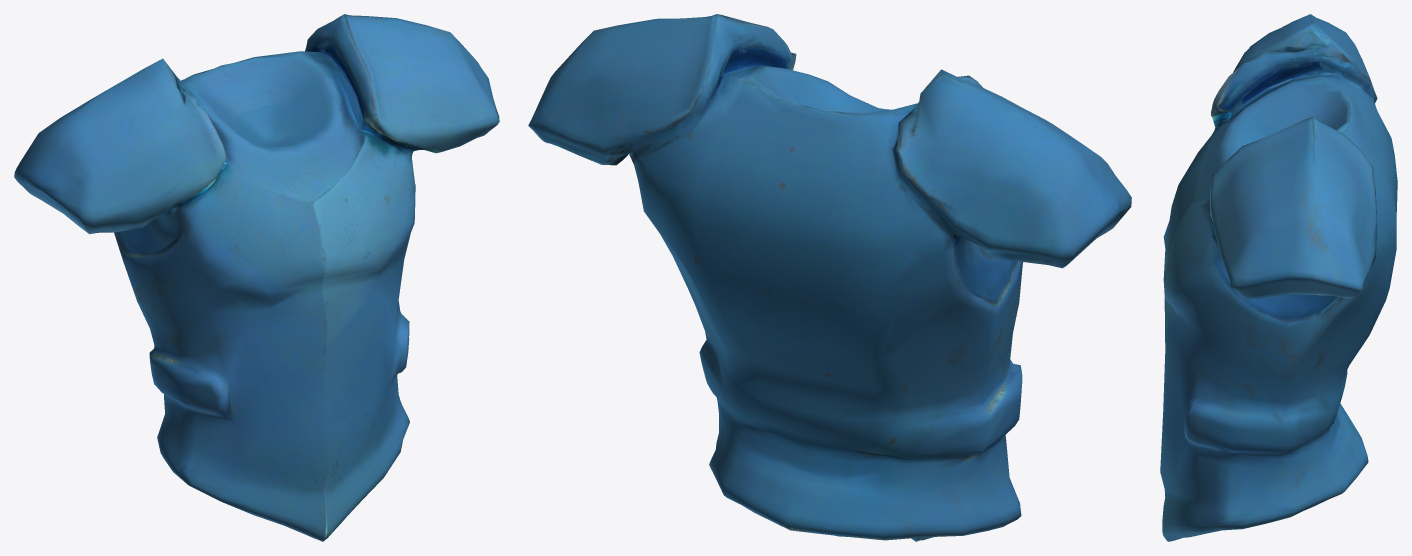
Rendered from body-metal-mithril.glb.
3 renders of one model, left to right at view 1: azimuth 30°, elevation 25°; view 2: azimuth 150°, elevation 25°; view 3: azimuth 270°, elevation 25°, orthographic. The views are drawn at different scales.
Bounding box in the file's own units: 1.98 × 1.9 × 0.8662.
1 material, 1 textured.
